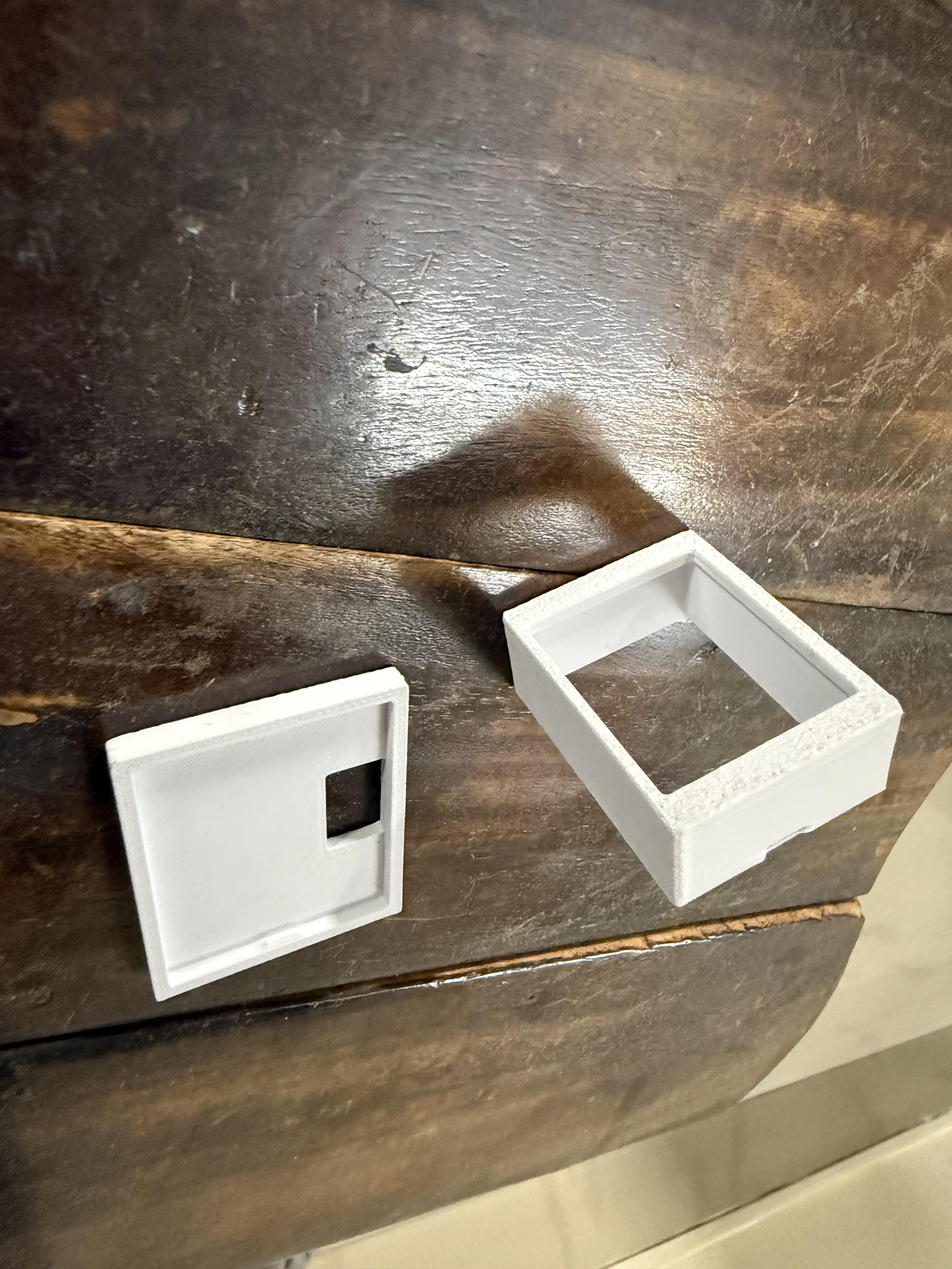enclosure: (502, 529, 904, 907), (88, 636, 424, 1020)
